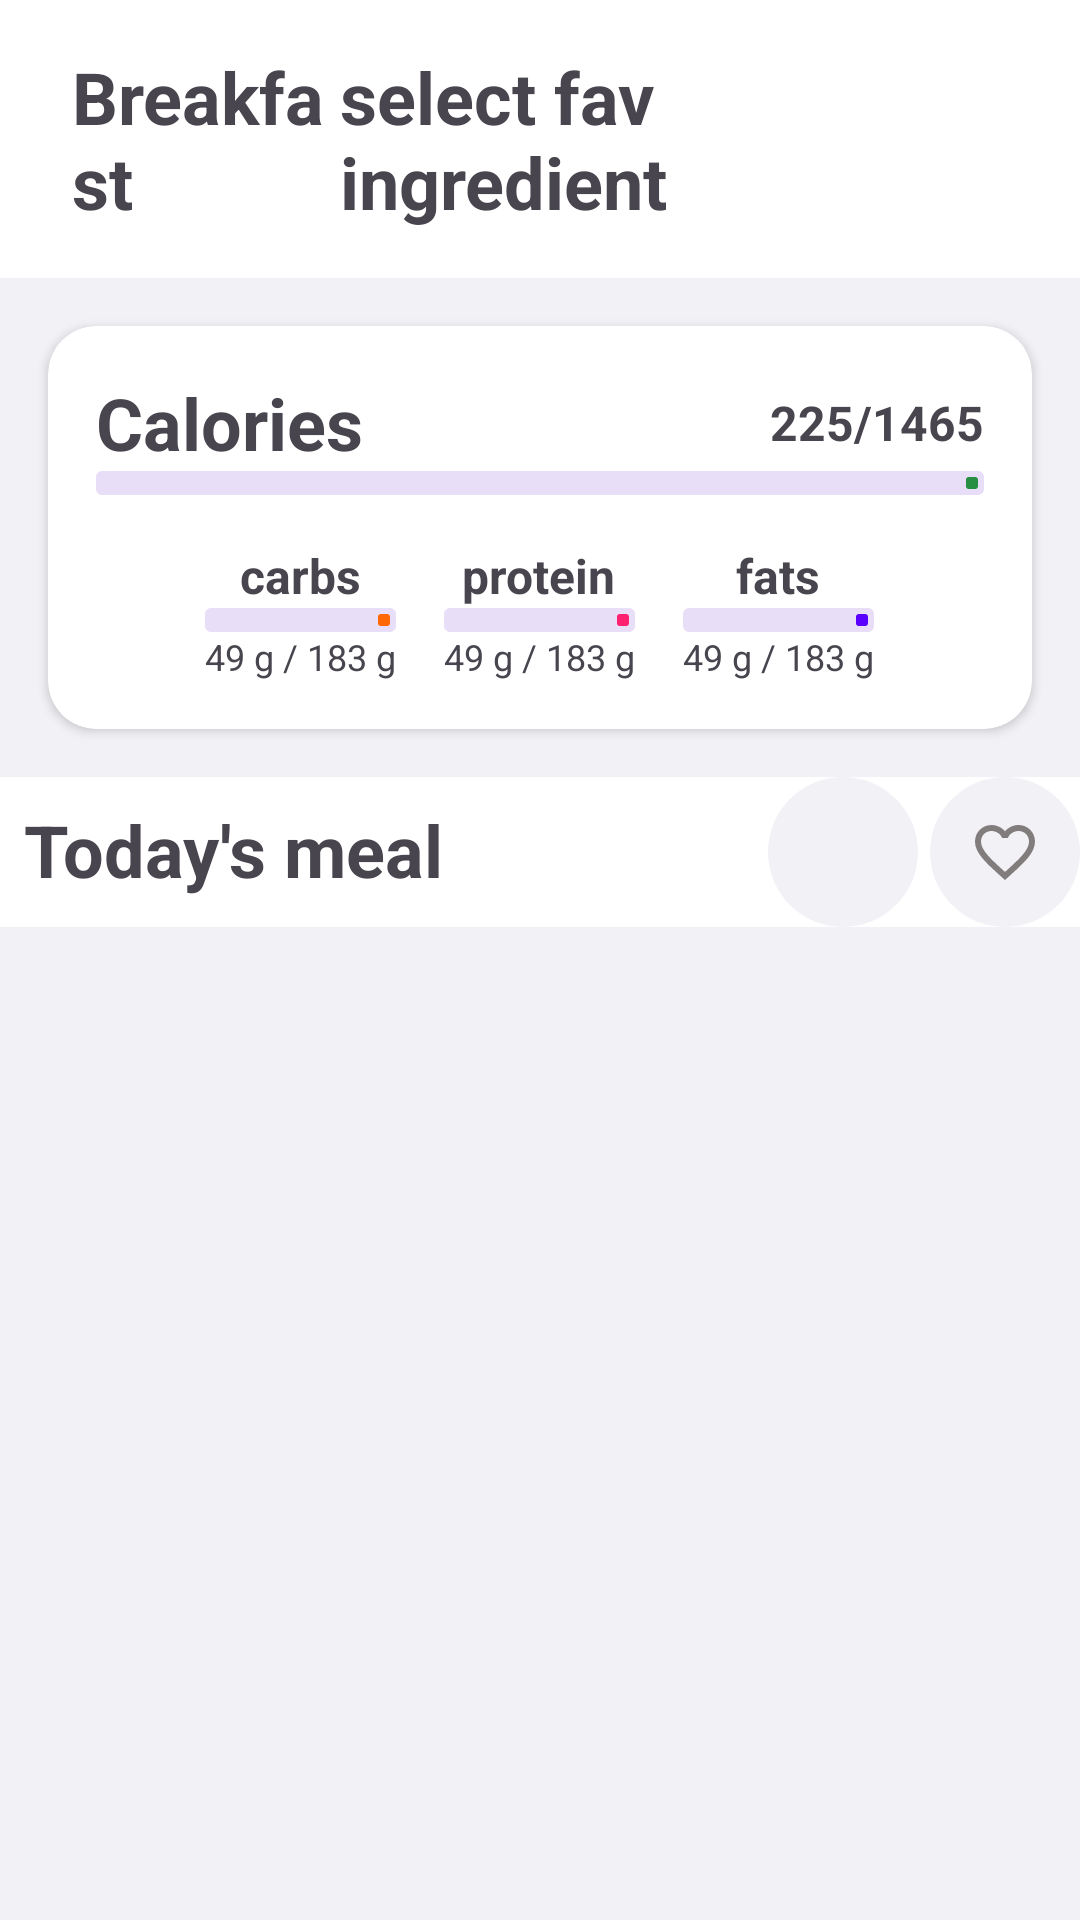

Point at icon controls on the screen. Image size 1080px×1920px, points as (x=x, y=y).
favourite: (x=1005, y=852)
